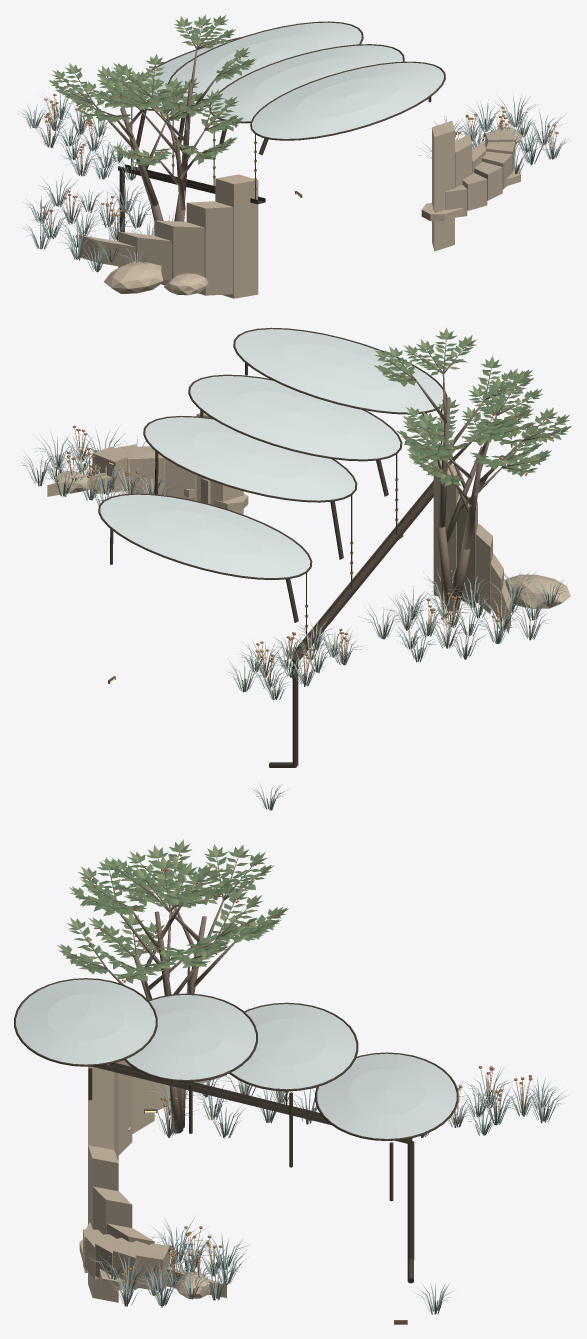
Rendered from detail-entry-art.glb.
3 views of the same model, one above another, from view 1: azimuth 30°, elevation 25°; view 2: azimuth 150°, elevation 25°; view 3: azimuth 270°, elevation 25° (orthographic). The views are drawn at different scales.
Visible parts, largest first — view 1: core_entry_leaf_laminated_glass__facade low-iron glass, core_entry_landscape_sandstone, core_entry_landscape_grass, core_entry_landscape_leaf, core_entry_landscape_bark, core_entry_landscape_stone_seat, core_entry_landscape_leaf_light, core_entry_leaf_rims__dark bronze, core_entry_landscape_grass_light, core_entry_landscape_seedheads, core_entry_leaf_collector__dark bronze, core_entry_leaf_cantilevers__dark bronze; view 2: core_entry_leaf_laminated_glass__facade low-iron glass, core_entry_landscape_sandstone, core_entry_landscape_grass, core_entry_landscape_leaf, core_entry_landscape_bark, core_entry_landscape_grass_light, core_entry_leaf_rims__dark bronze, core_entry_landscape_leaf_light, core_entry_leaf_collector__dark bronze, core_entry_landscape_seedheads, core_entry_landscape_stone_seat, core_entry_leaf_cantilevers__dark bronze (+1 smaller); view 3: core_entry_leaf_laminated_glass__facade low-iron glass, core_entry_landscape_leaf, core_entry_landscape_sandstone, core_entry_landscape_grass, core_entry_landscape_bark, core_entry_landscape_stone_seat, core_entry_landscape_leaf_light, core_entry_leaf_rims__dark bronze, core_entry_landscape_grass_light, core_entry_leaf_collector__dark bronze, core_entry_landscape_seedheads, core_entry_leaf_outlet__dark bronze (+1 smaller).
Part boxes in pixels (box(x1,y1,x2,y2)): core_entry_leaf_laminated_glass__facade low-iron glass: box(137, 22, 443, 138); core_entry_landscape_sandstone: box(78, 121, 522, 298); core_entry_landscape_grass: box(18, 93, 568, 272); core_entry_landscape_leaf: box(49, 15, 254, 165); core_entry_landscape_bark: box(59, 24, 239, 221); core_entry_landscape_stone_seat: box(445, 130, 515, 217); core_entry_landscape_leaf_light: box(49, 14, 256, 164); core_entry_leaf_rims__dark bronze: box(135, 21, 445, 140); core_entry_landscape_grass_light: box(35, 96, 571, 271); core_entry_landscape_seedheads: box(42, 94, 558, 238); core_entry_leaf_collector__dark bronze: box(118, 164, 265, 204); core_entry_leaf_cantilevers__dark bronze: box(136, 97, 431, 155); core_entry_leaf_laminated_glass__facade low-iron glass: box(100, 329, 443, 577); core_entry_landscape_sandstone: box(47, 412, 570, 633); core_entry_landscape_grass: box(16, 426, 565, 810); core_entry_landscape_leaf: box(374, 331, 570, 485); core_entry_landscape_bark: box(385, 339, 560, 610); core_entry_landscape_grass_light: box(17, 426, 563, 807); core_entry_leaf_rims__dark bronze: box(98, 327, 447, 579); core_entry_landscape_leaf_light: box(374, 327, 570, 486); core_entry_leaf_collector__dark bronze: box(292, 480, 433, 661); core_entry_landscape_seedheads: box(66, 425, 500, 682); core_entry_landscape_stone_seat: box(92, 444, 210, 504); core_entry_leaf_cantilevers__dark bronze: box(110, 363, 429, 622); core_entry_leaf_laminated_glass__facade low-iron glass: box(16, 979, 456, 1138); core_entry_landscape_leaf: box(59, 842, 287, 983); core_entry_landscape_sandstone: box(79, 1060, 226, 1302); core_entry_landscape_grass: box(91, 1004, 569, 1314); core_entry_landscape_bark: box(71, 853, 273, 1133); core_entry_landscape_stone_seat: box(83, 1222, 169, 1291); core_entry_landscape_leaf_light: box(57, 839, 288, 978); core_entry_leaf_rims__dark bronze: box(14, 978, 458, 1140); core_entry_landscape_grass_light: box(88, 1075, 545, 1314); core_entry_leaf_collector__dark bronze: box(91, 1063, 412, 1144); core_entry_landscape_seedheads: box(121, 1066, 532, 1304); core_entry_leaf_outlet__dark bronze: box(407, 1141, 414, 1283).
Bounding box in the file's own units: 9.34 × 6.06 × 7.24.
